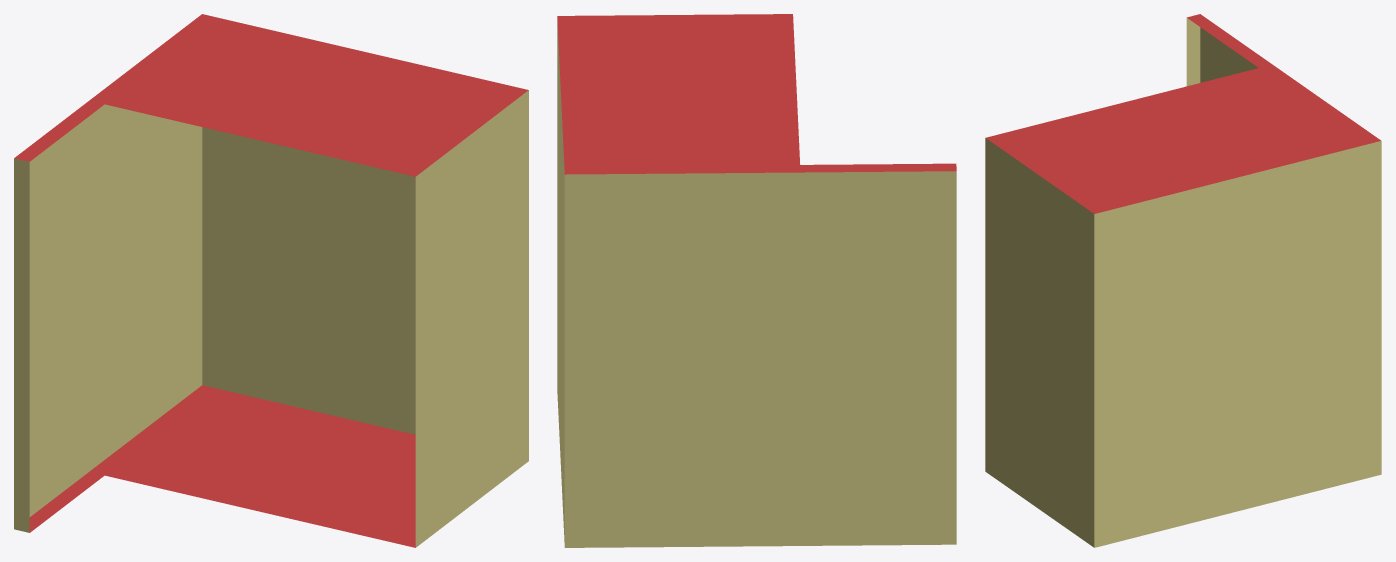
3 views of the same model, side by side, from view 1: azimuth 30°, elevation 25°; view 2: azimuth 150°, elevation 25°; view 3: azimuth 270°, elevation 25° (orthographic). The views are drawn at different scales.
Bounding box in the file's own units: 8.04 × 6.73 × 6.26.
